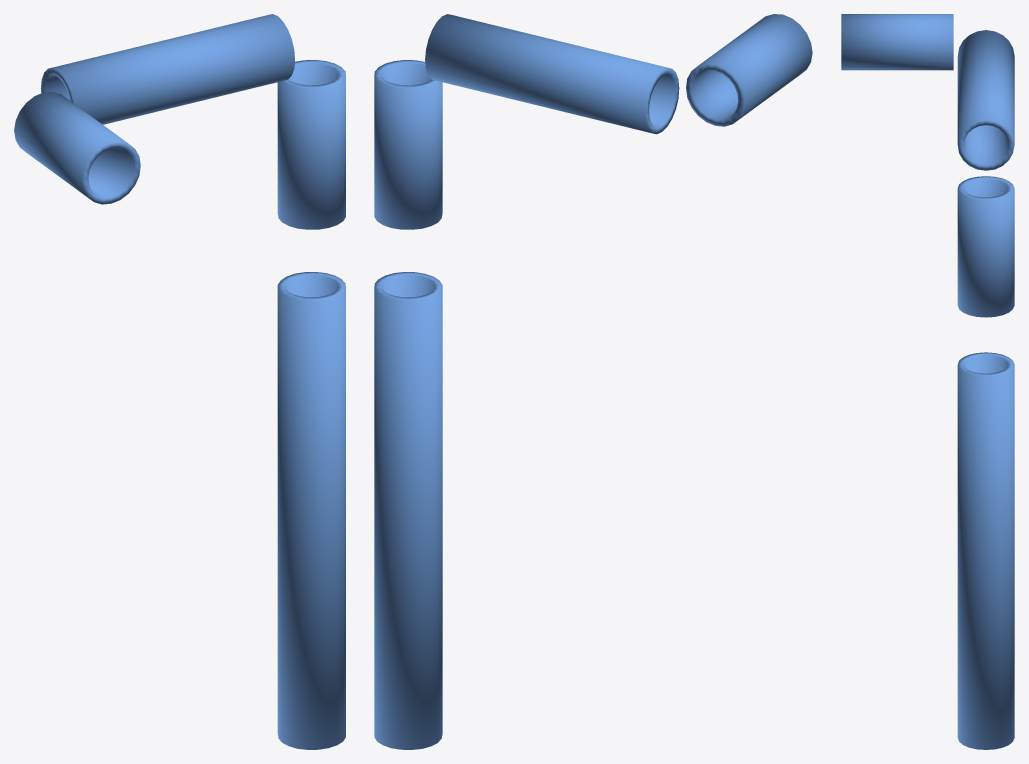
The model's file is slab_pipes_supply__plumbing__3c412761.glb.
3 renders of one model, left to right at view 1: azimuth 30°, elevation 25°; view 2: azimuth 150°, elevation 25°; view 3: azimuth 270°, elevation 25°, orthographic. The views are drawn at different scales.
Visible parts, largest first — view 1: pipe_supply_manifold_feed__pex; view 2: pipe_supply_manifold_feed__pex; view 3: pipe_supply_manifold_feed__pex.
Part boxes in pixels (bbox=[...]): pipe_supply_manifold_feed__pex: bbox=[14, 14, 345, 749]; pipe_supply_manifold_feed__pex: bbox=[374, 14, 812, 749]; pipe_supply_manifold_feed__pex: bbox=[841, 14, 1014, 749].
Size of the model in its own units: 0.1302 by 0.2611 by 0.0677.
